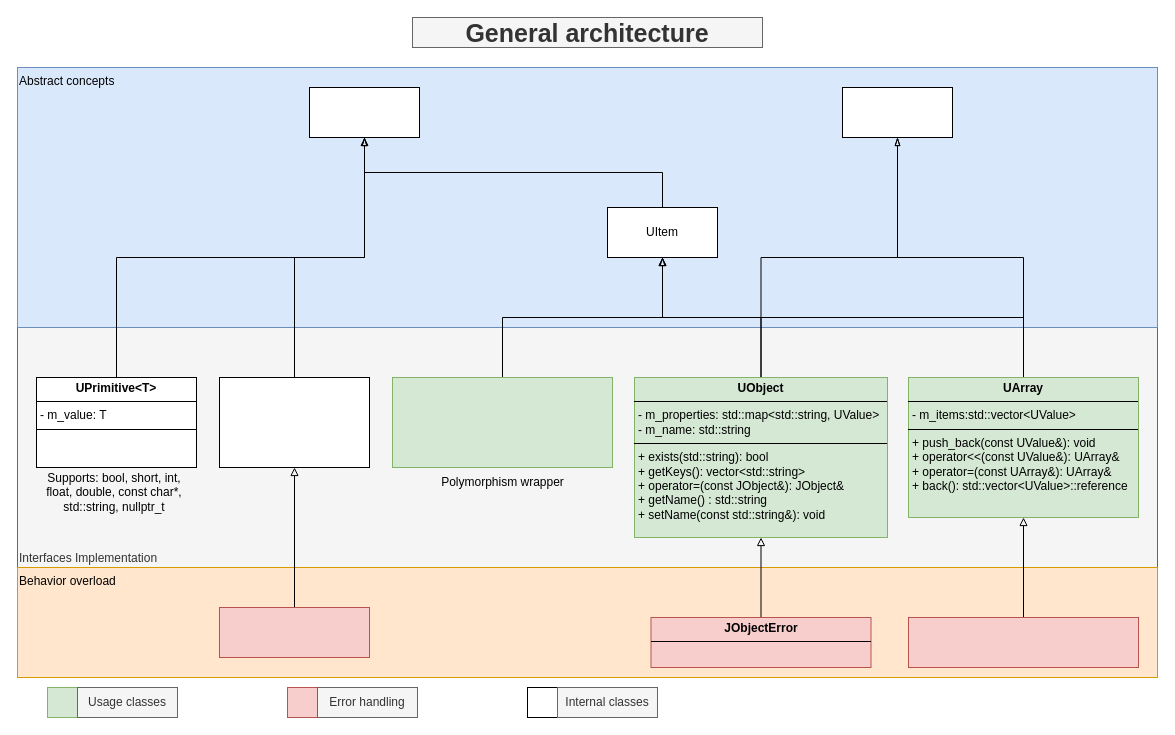
This 1175x735 diagram has some shape labels left out. The shapes that lost their labels are listed below. From the top down, each one's centre as x and y in pixels, then its label:
point (364, 112): «interface» IUValue
point (897, 112): «interface» IUContainer
point (294, 422): UUndefined
point (502, 422): UValue - m_ptr: std::unique_ptr<UIValue> + operator=(const UValue&): UValue&
point (294, 632): JUndefinedError
point (1023, 642): JArrayError
